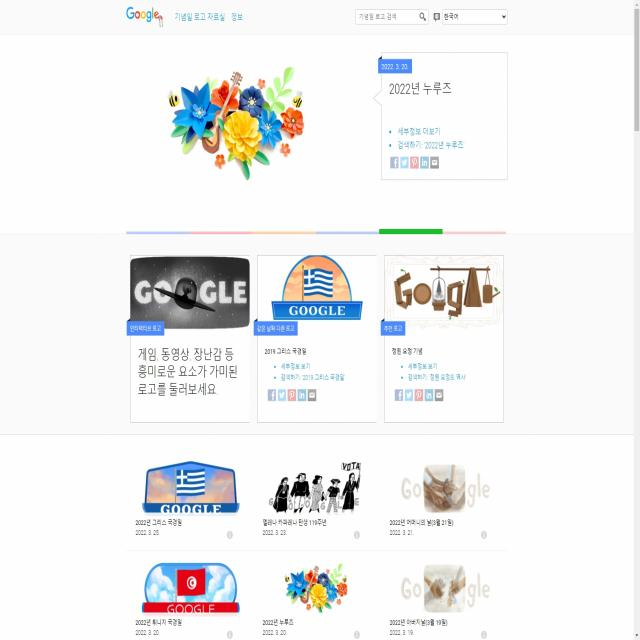menu-bar: (170, 3, 248, 30)
search: (353, 3, 429, 27)
